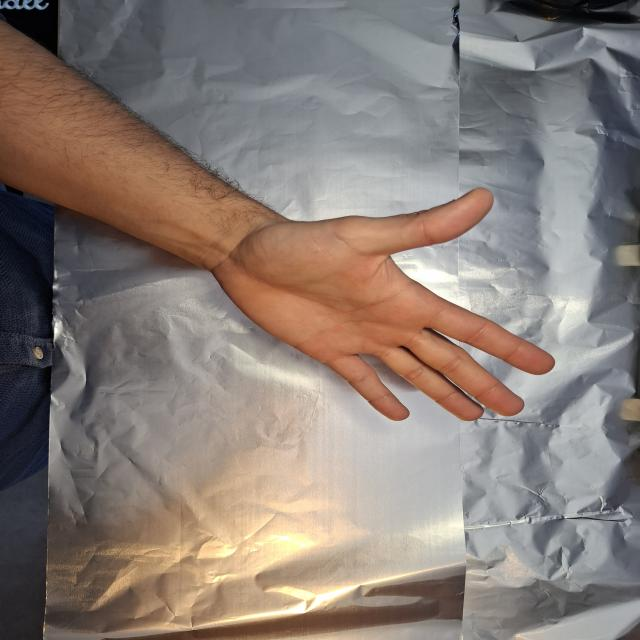glove_off: (204, 185, 559, 424)
